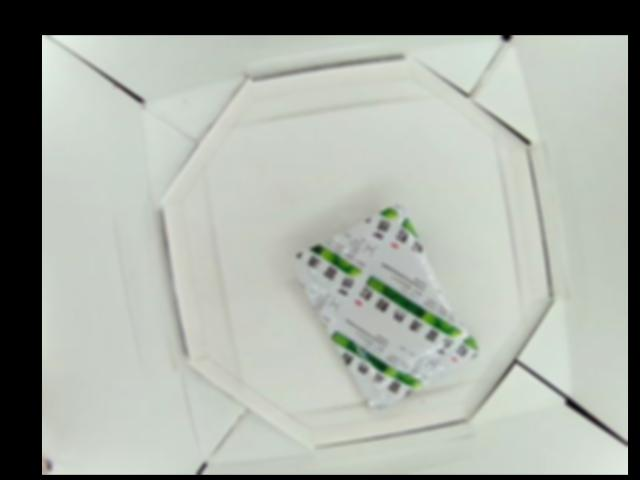Medicine: (295, 203, 481, 410)
